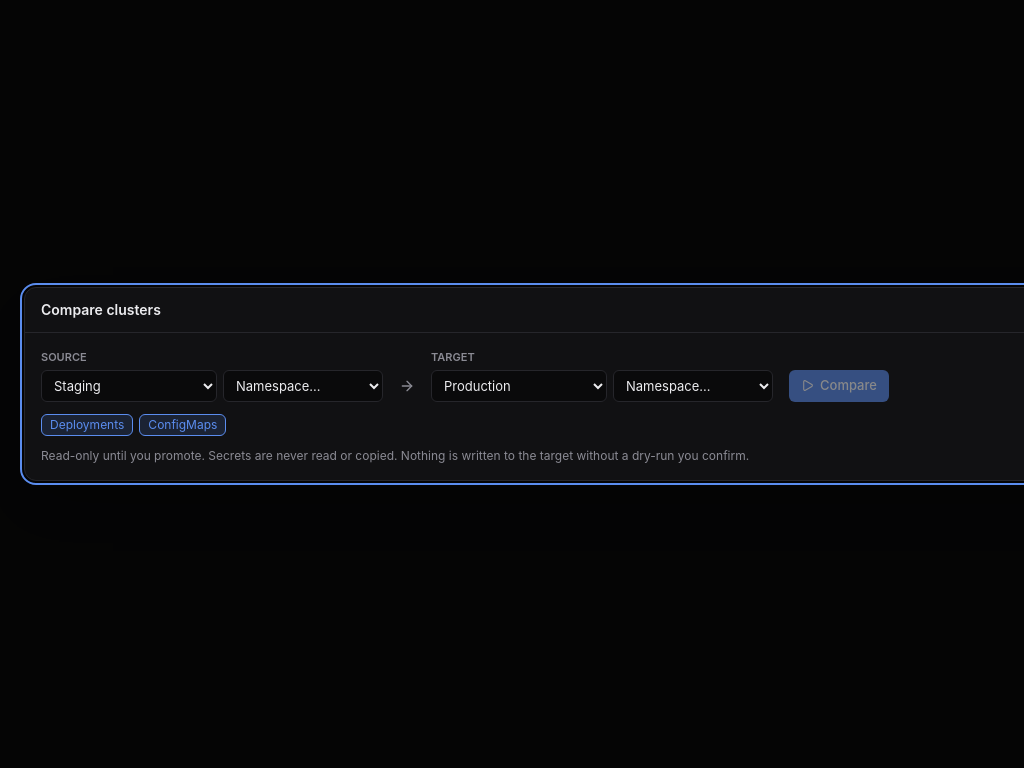
Scenario: CompareDialog › lists only differences by default and never offers Secrets
The width and height of the screenshot is (1024, 768).
Select "staging" in the dropdown named "Source namespace": (303, 386) left=223, top=370, right=383, bottom=402
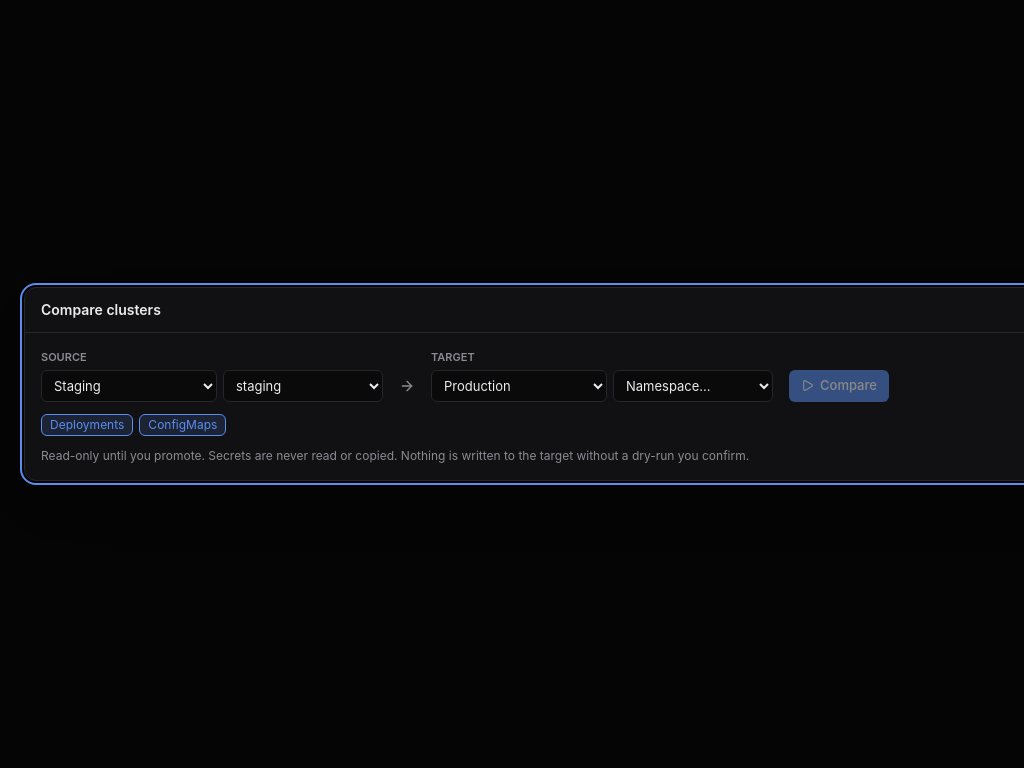
Select "prod" in the dropdown named "Target namespace": (693, 386) left=613, top=370, right=773, bottom=402
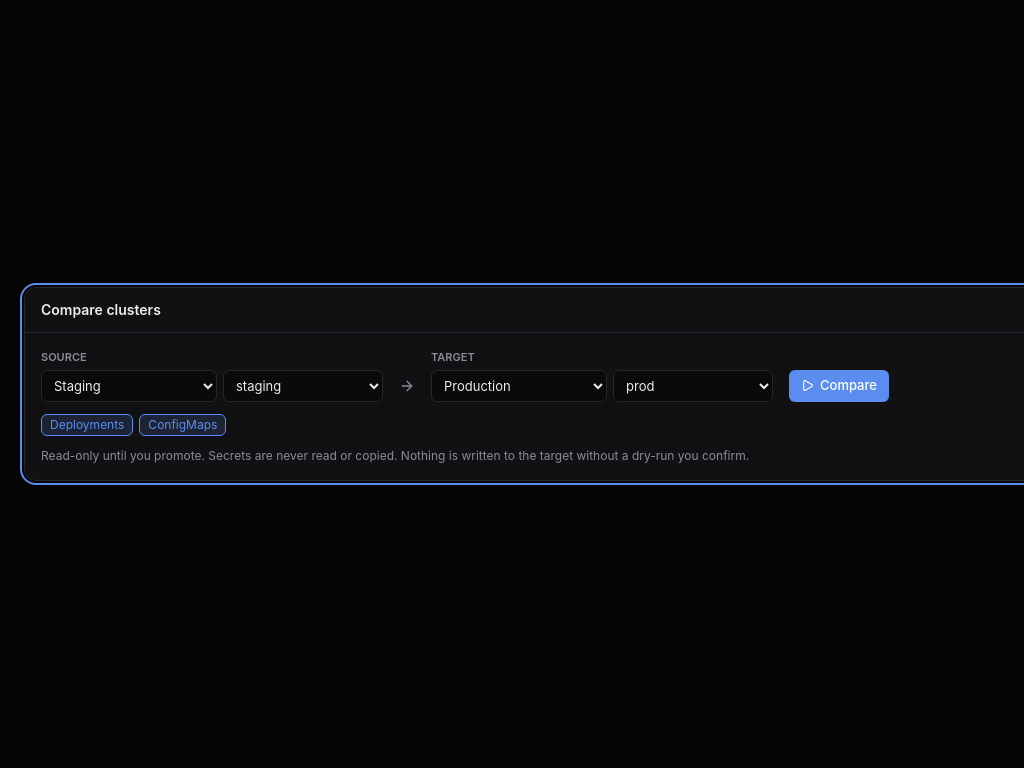
Click the button "Compare": (839, 386) left=789, top=370, right=889, bottom=402
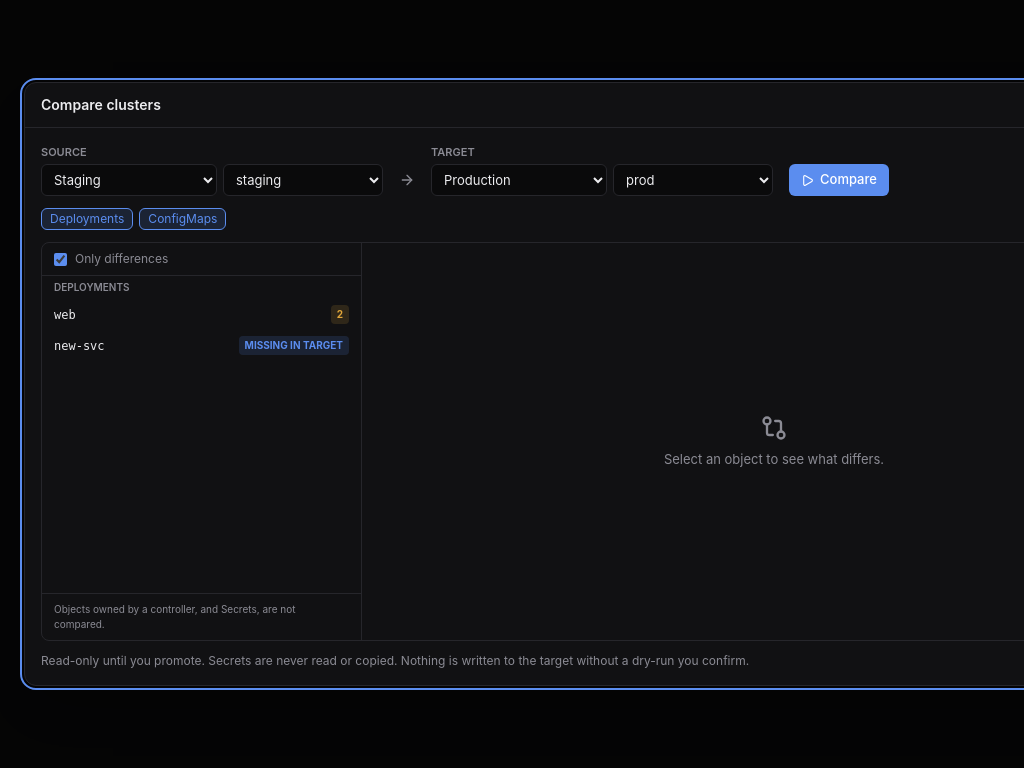
Expected: the text "steady" is not shown
Result: the text "web" is shown at left=54, top=308, right=76, bottom=322
Result: the text "new-svc" is shown at left=54, top=339, right=105, bottom=353
Click the checkbox labelled "Only differences": (60, 259) left=54, top=253, right=67, bottom=266
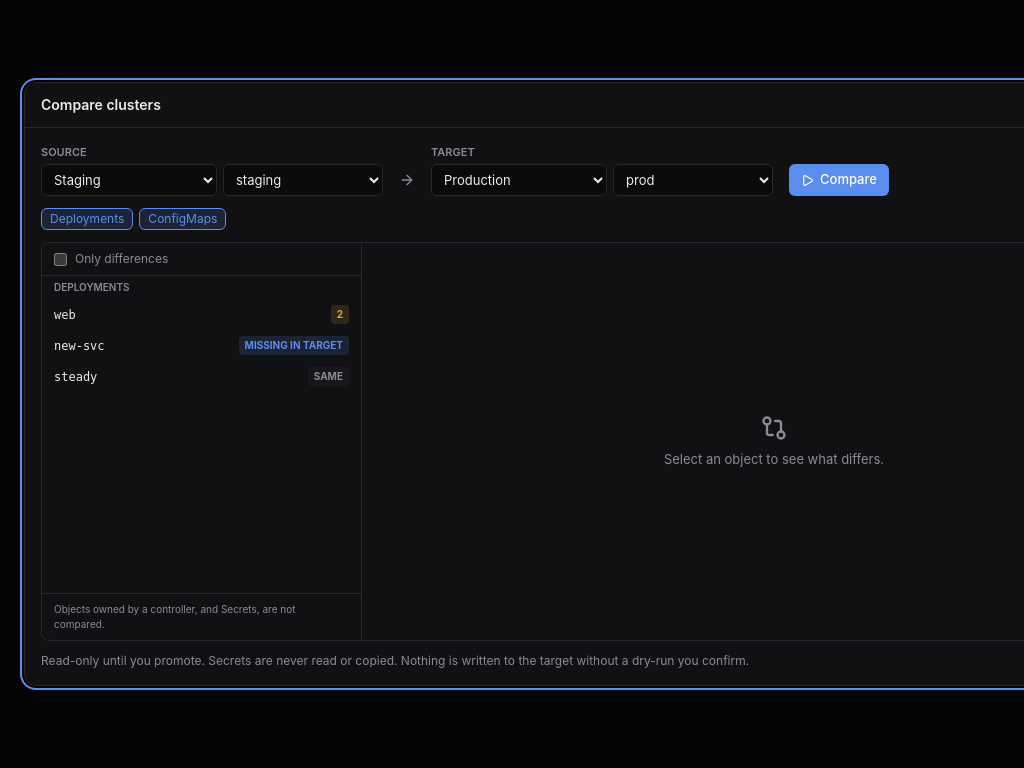
Result: the text "steady" is shown at left=54, top=370, right=97, bottom=384
